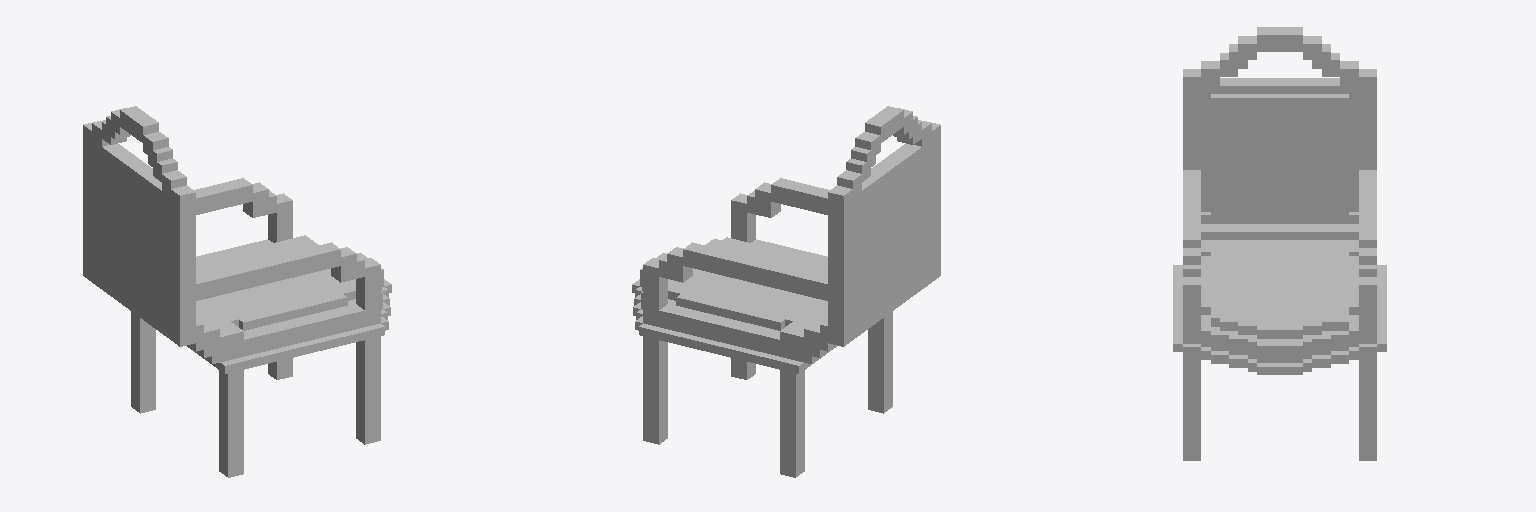
The model's file is Chaise 1.obj.
3 views of the same model, side by side, from view 1: azimuth 30°, elevation 25°; view 2: azimuth 150°, elevation 25°; view 3: azimuth 270°, elevation 25° (orthographic).
Parts seen in each view (by area): view 1: object 1; view 2: object 1; view 3: object 1.
Boxes of the visible parts, <box> form: object 1: <box>83,106,391,477</box>; object 1: <box>632,106,940,477</box>; object 1: <box>1173,27,1386,460</box>.
Bounding box in the file's own units: 3.1 × 4 × 2.3.